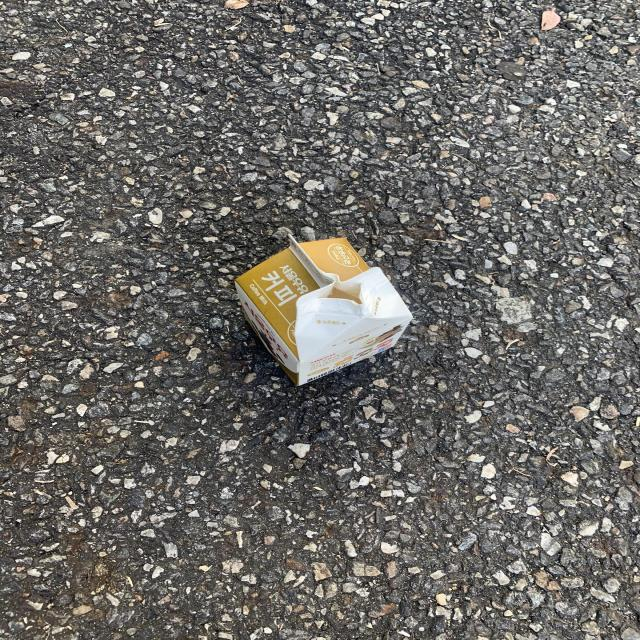paperpack: (234, 236, 412, 385)
